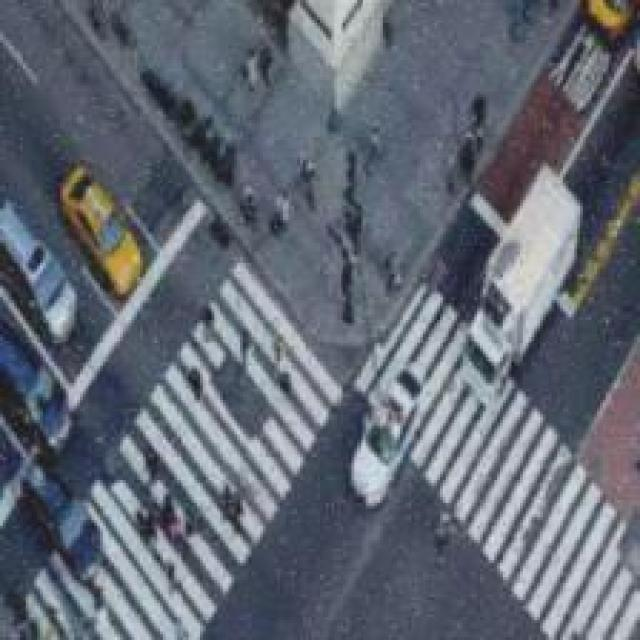walk-crossing: (13, 269, 338, 637), (356, 270, 638, 636)
